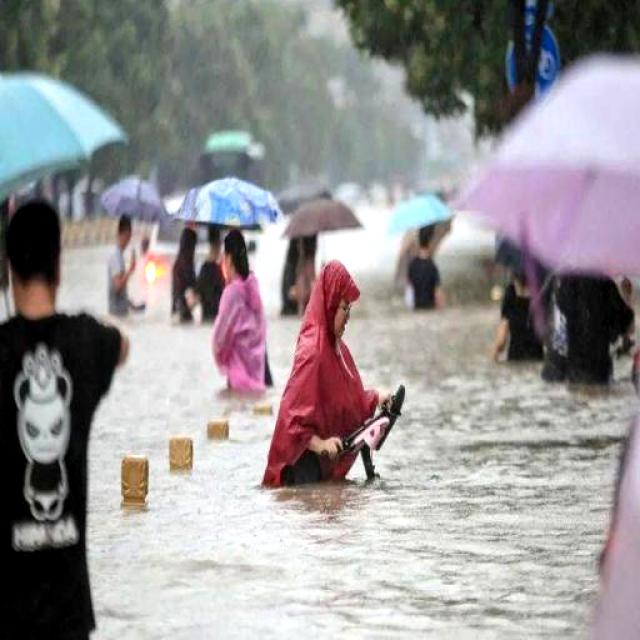civilian: (0, 195, 116, 640), (260, 222, 404, 518), (540, 254, 636, 408), (216, 223, 278, 402), (494, 240, 549, 392), (101, 207, 149, 329), (407, 216, 454, 340), (279, 212, 329, 325), (167, 214, 201, 331), (201, 228, 234, 328)
